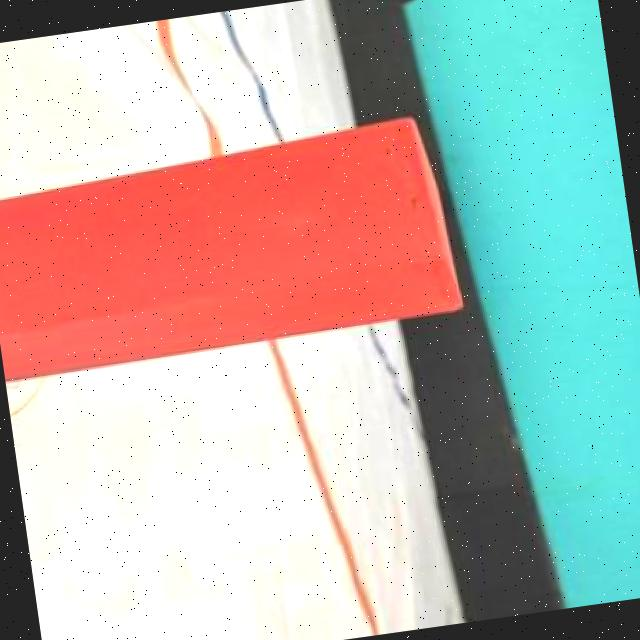redbox: (0, 111, 469, 386)
